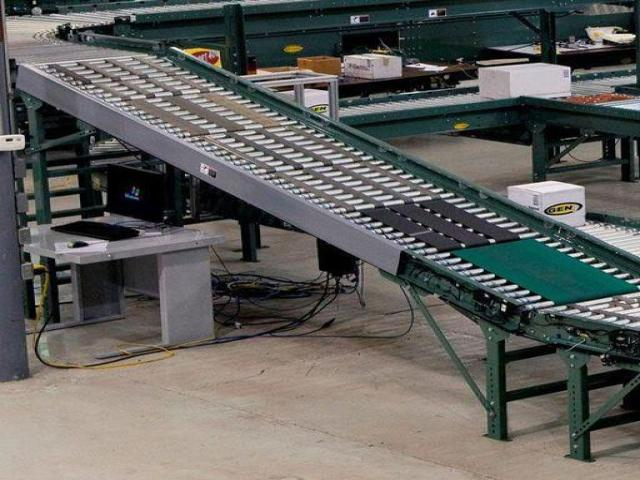conveyor: (11, 41, 639, 368)
